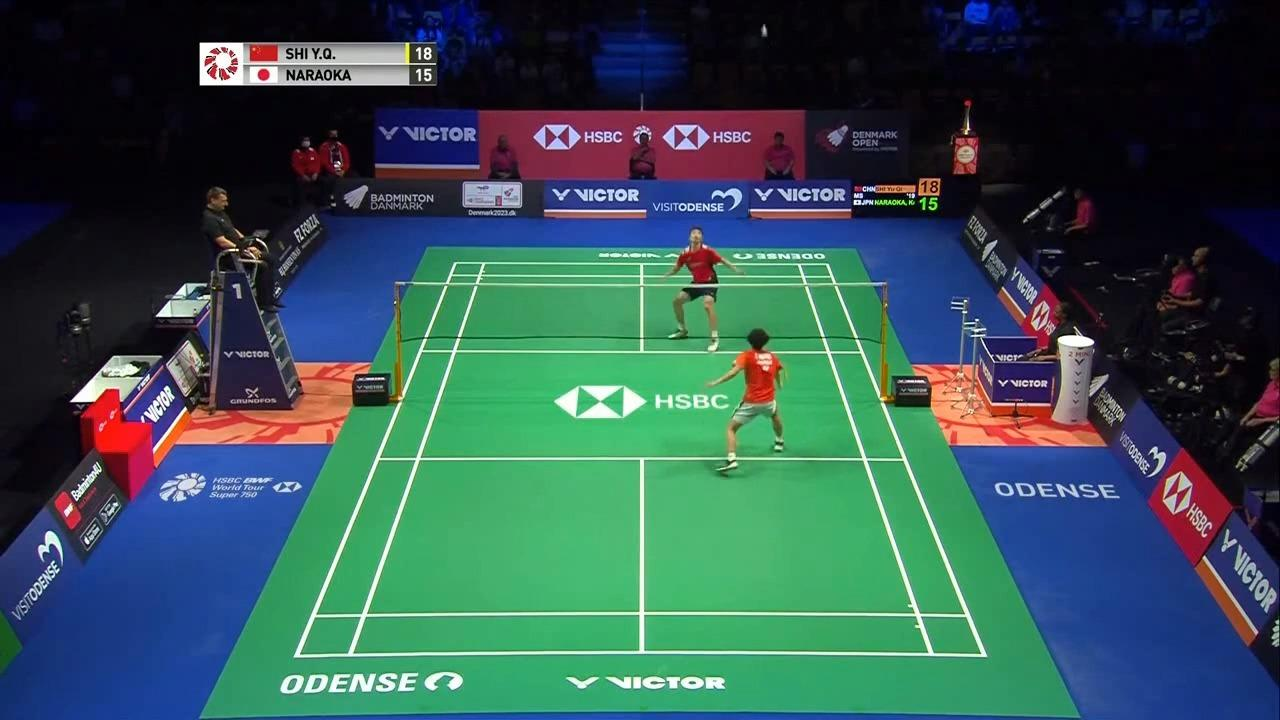shuttle: (760, 23, 768, 33)
